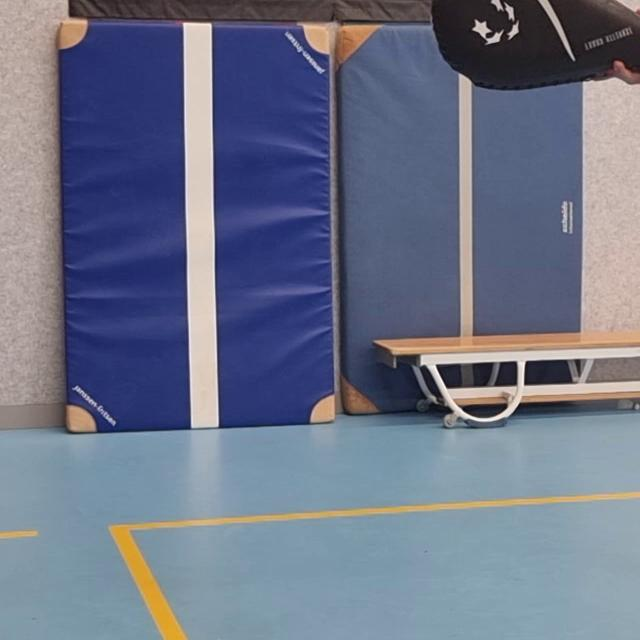paddle: (427, 0, 640, 92)
